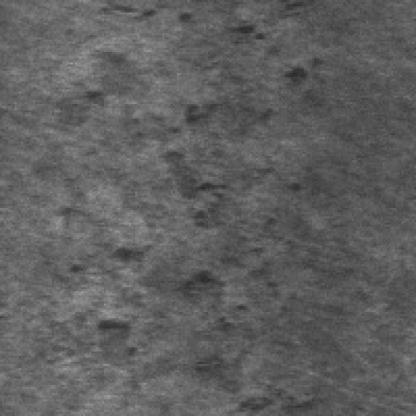rolled-in_scale: (156, 91, 306, 408), (69, 198, 202, 366)
